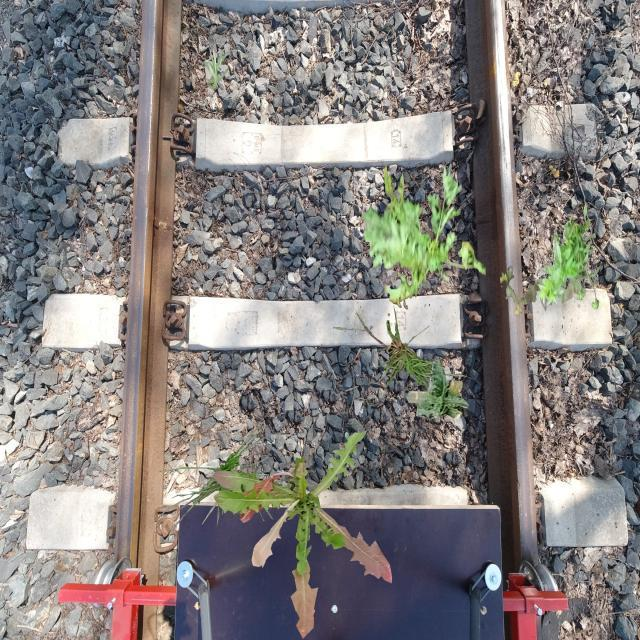Plant: (213, 431, 393, 640), (361, 163, 486, 310), (157, 420, 276, 542), (333, 304, 476, 394), (536, 204, 600, 312), (500, 265, 586, 316), (406, 357, 469, 419), (203, 48, 230, 90)
